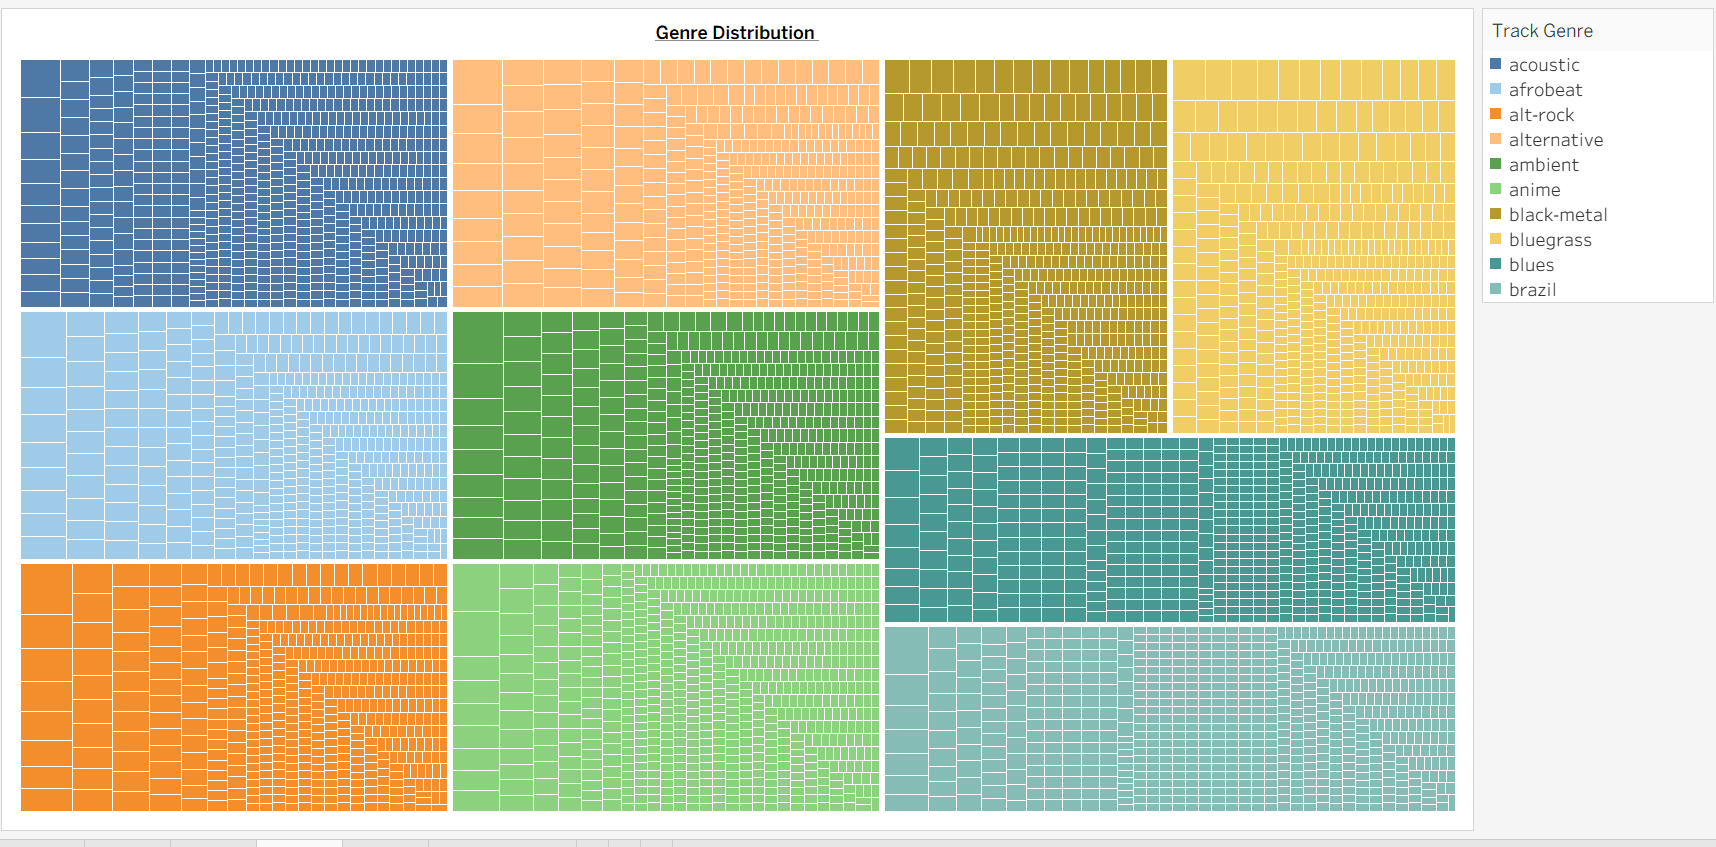

The page's visual inventory and layout, read from the dashboard file:
{"tool":"tableau","page":{"name":"Dashboard 1","canvas":[1000,1000],"units":"permille","ordinal":0},"visuals":[{"type":"text","box":[5.2,8.6,989.7,88.4]},{"type":"worksheet","title":"Sheet 5","mark":"Circle","rows":["popularity"],"cols":["danceability"],"box":[5.2,97.1,180.6,894.3]},{"type":"worksheet","title":"Sheet 1","mark":"Automatic","rows":["track_genre"],"cols":["popularity"],"box":[185.8,97.1,302.6,371.1]},{"type":"worksheet","title":"Sheet 2","mark":"Automatic","rows":["artists"],"cols":["popularity"],"box":[488.4,97.1,301.3,371.1]},{"type":"legend","title":"Sheet 2","param":"[federated.0ewesnz0pkknqd1dk22ud1upjf5m].[none:artists:nk]","box":[789.7,97.1,205.2,306.4]},{"type":"worksheet","title":"Sheet 7","mark":"Circle","rows":["popularity"],"box":[789.7,403.4,205.2,587.9]},{"type":"worksheet","title":"Sheet 6","mark":"Automatic","box":[185.8,468.1,603.9,523.2]}]}

Visuals, with their boxes on the dashboard's canvas, which has no fixed pixel size, in thousandths of its width and height (x1, y1, x2, y2). These are canvas units, not pixel positions in the 1716x847 screenshot, which may show the page scaled, cropped or inside an application window:
text: <box>5,9,995,97</box>
"Sheet 5" worksheet (Circle marks): <box>5,97,186,991</box>
"Sheet 1" worksheet: <box>186,97,488,468</box>
"Sheet 2" worksheet: <box>488,97,790,468</box>
"Sheet 2" legend: <box>790,97,995,404</box>
"Sheet 7" worksheet (Circle marks): <box>790,403,995,991</box>
"Sheet 6" worksheet: <box>186,468,790,991</box>
